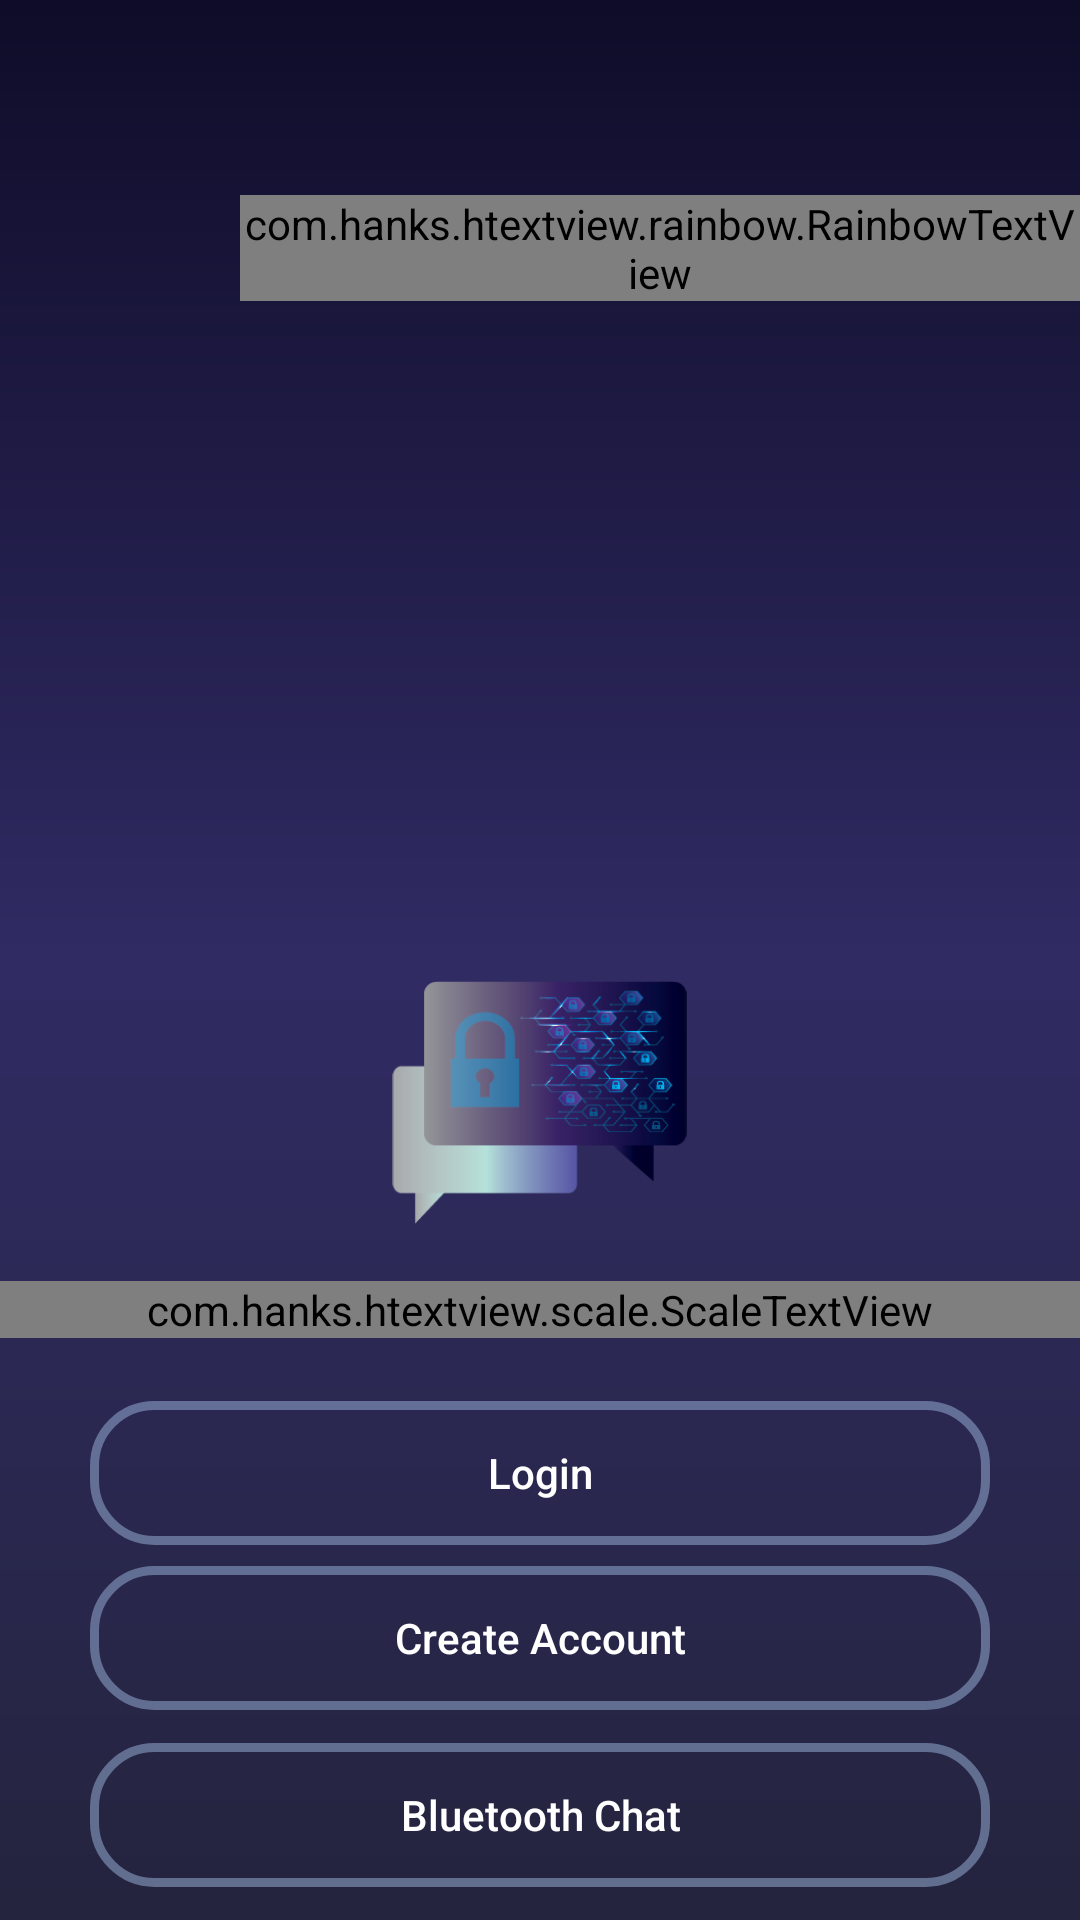

Point at icon controls on the screen. Image size 1080 x 1920, points as point (x, y).
chatbubble: point (539, 1102)
